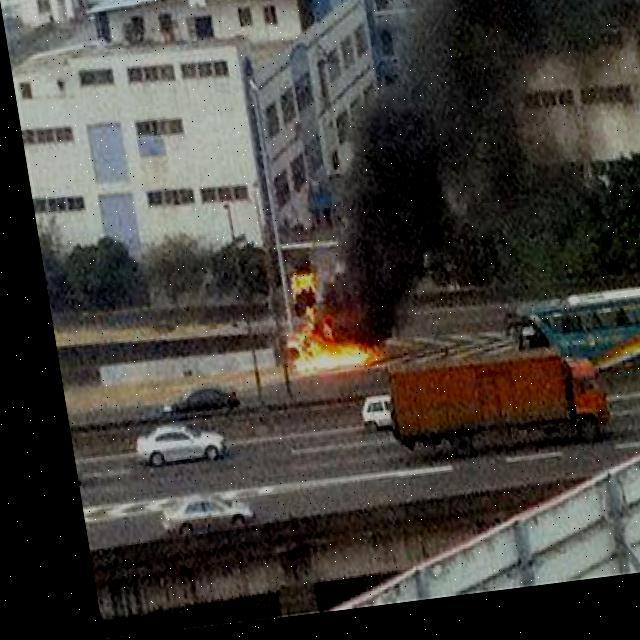Fire: (266, 266, 374, 386)
